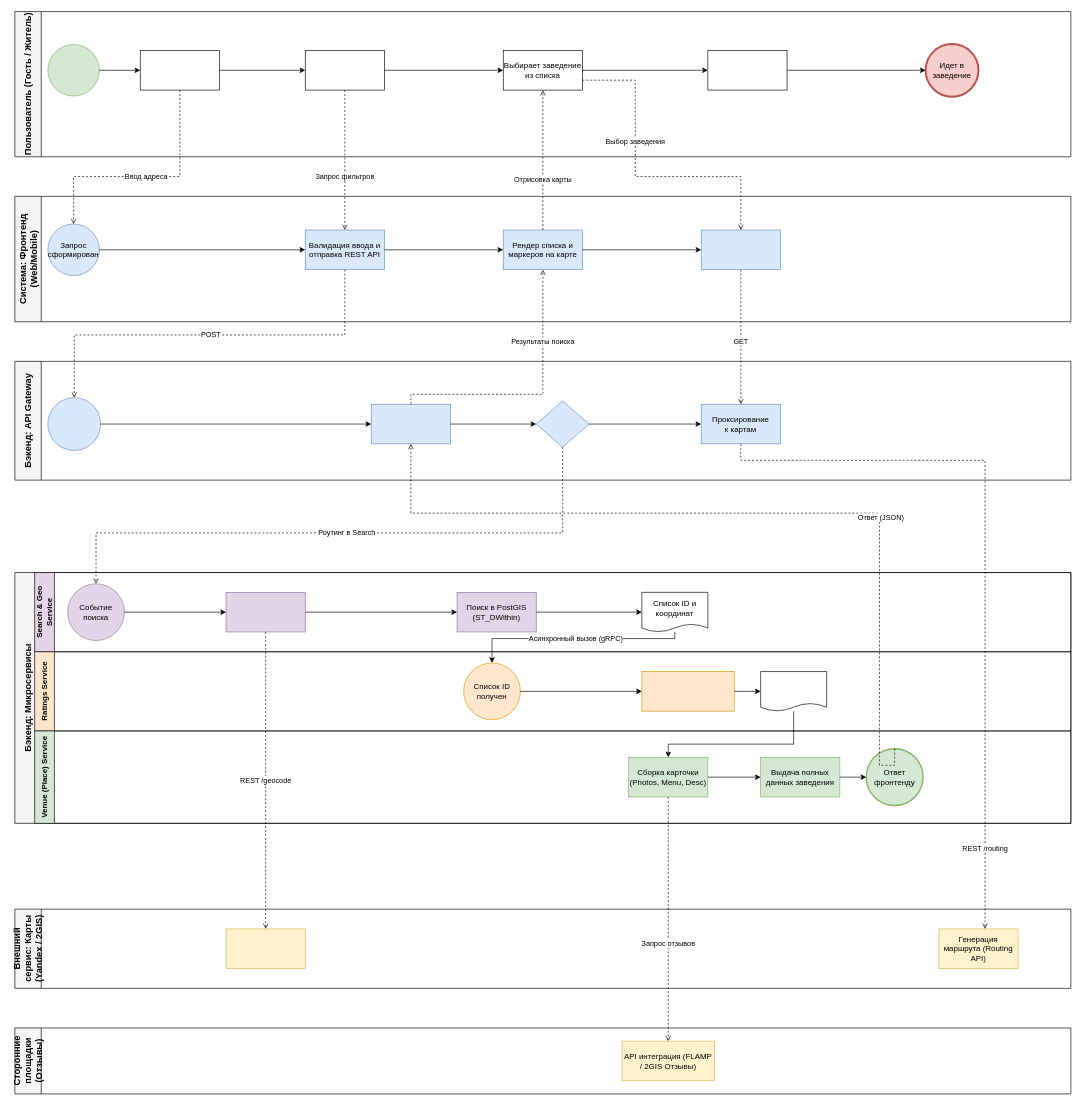
Image size: 1082x1106. Some labels were removed from this diagram. Each missing label, with the centre of its shape:
HTTP Запрос: (74,423)
Агрегация оценок (Redis Cache / ClickHouse): (687,691)
Аутентификация & Rate Limiting: (410,424)
Вводит адрес / берет геопозицию: (179,70)
Геокодинг (Forward / Reverse): (265,948)
Запрос к внешнему геокодеру (координаты): (265,612)
Инициализация виджета карт (SDK): (740,249)
Нажимает "Построить маршрут": (747,70)
Открывает приложение: (73,70)
Применяет фильтры (радиус, рейтинг): (344,70)
Рейтинги (JSON): (793,691)
Роутинг запросов: (562,423)
